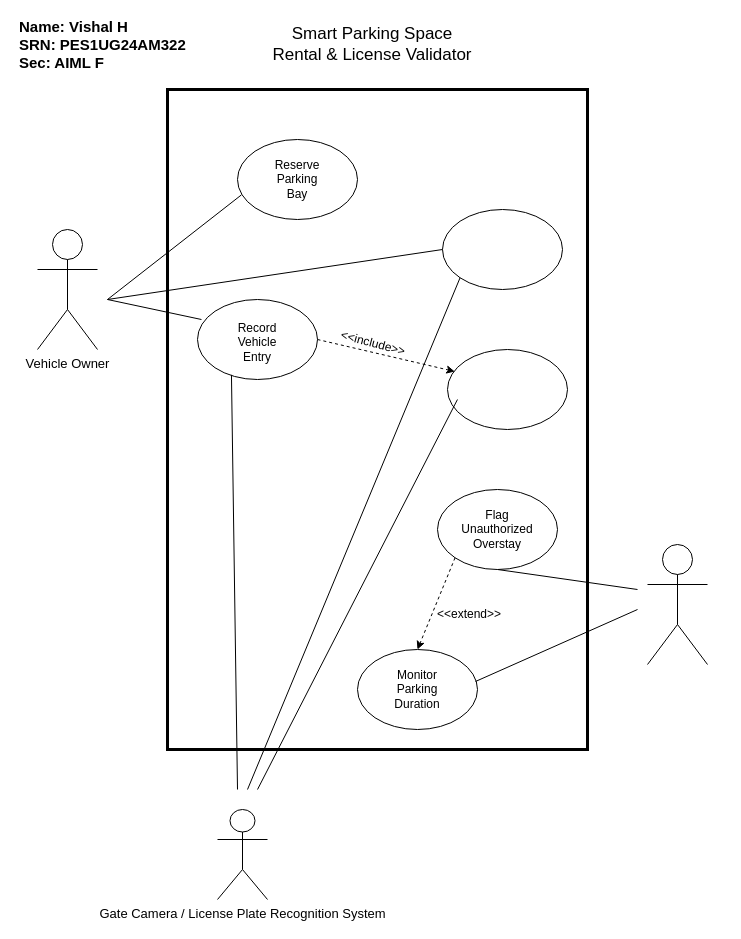
This 741x939 diagram has some shape labels left out. Each missing label, with the box of its shape:
Parking Warden: (646, 544, 708, 664)
Process Vehicle Exit & Billing: (442, 208, 562, 290)
Validate License Plate & Reservation: (446, 348, 568, 430)
